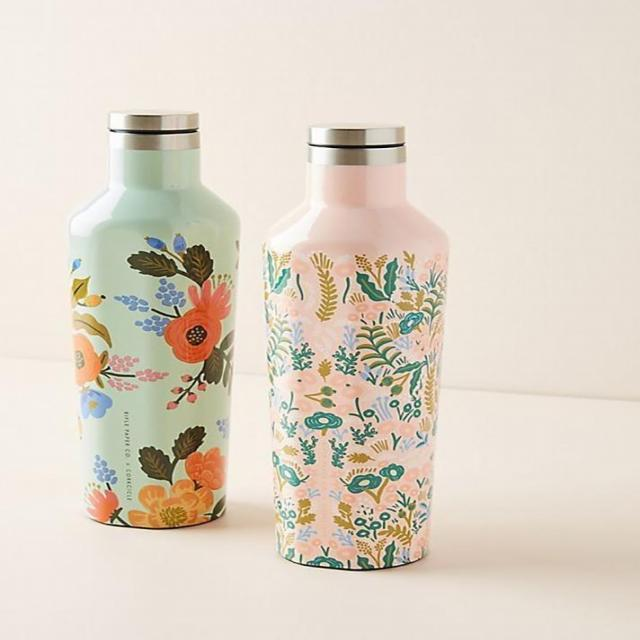gym bottle: (257, 119, 452, 576), (64, 105, 244, 532)
